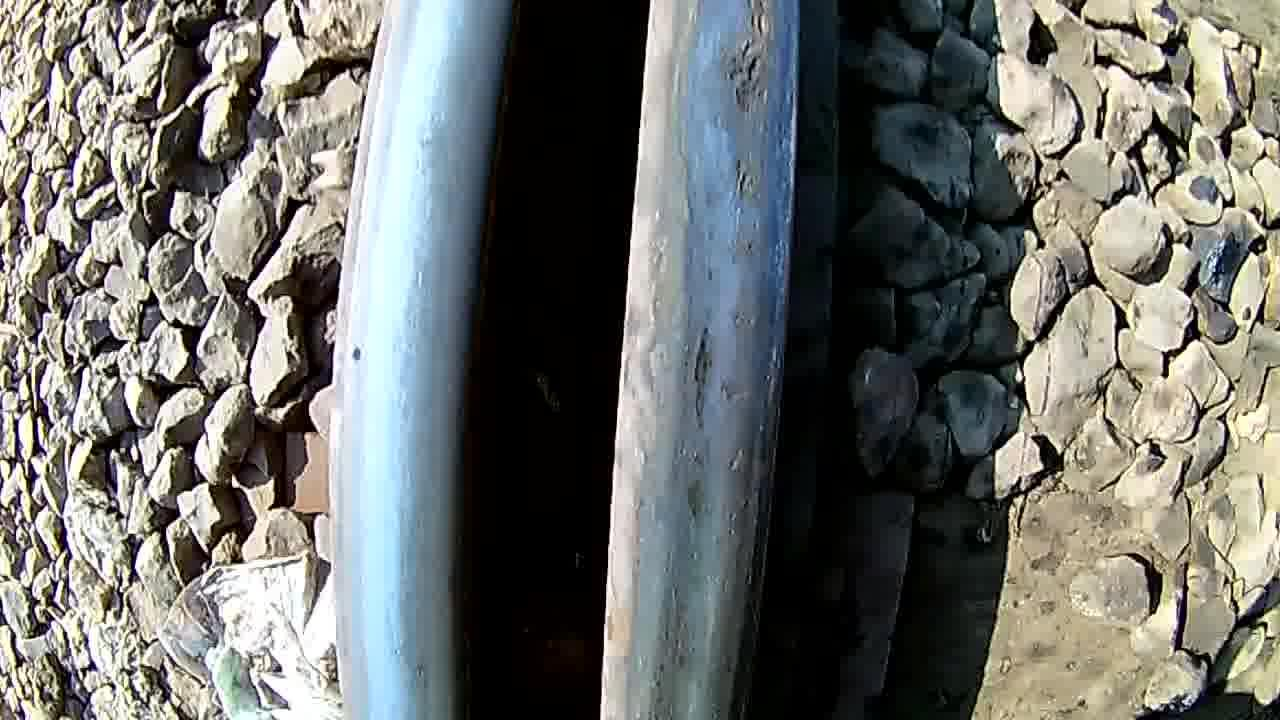crack: (646, 0, 806, 710)
